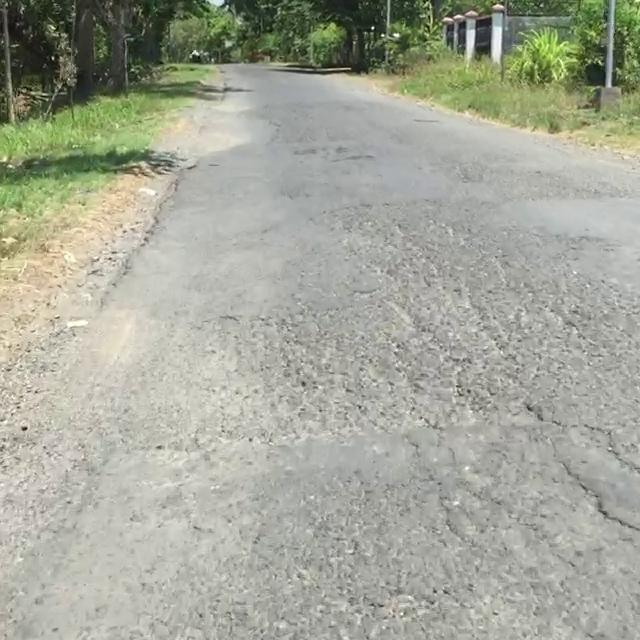retak_memanjang: (525, 408, 640, 640)
